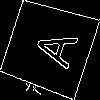A: (24, 23, 78, 70)
